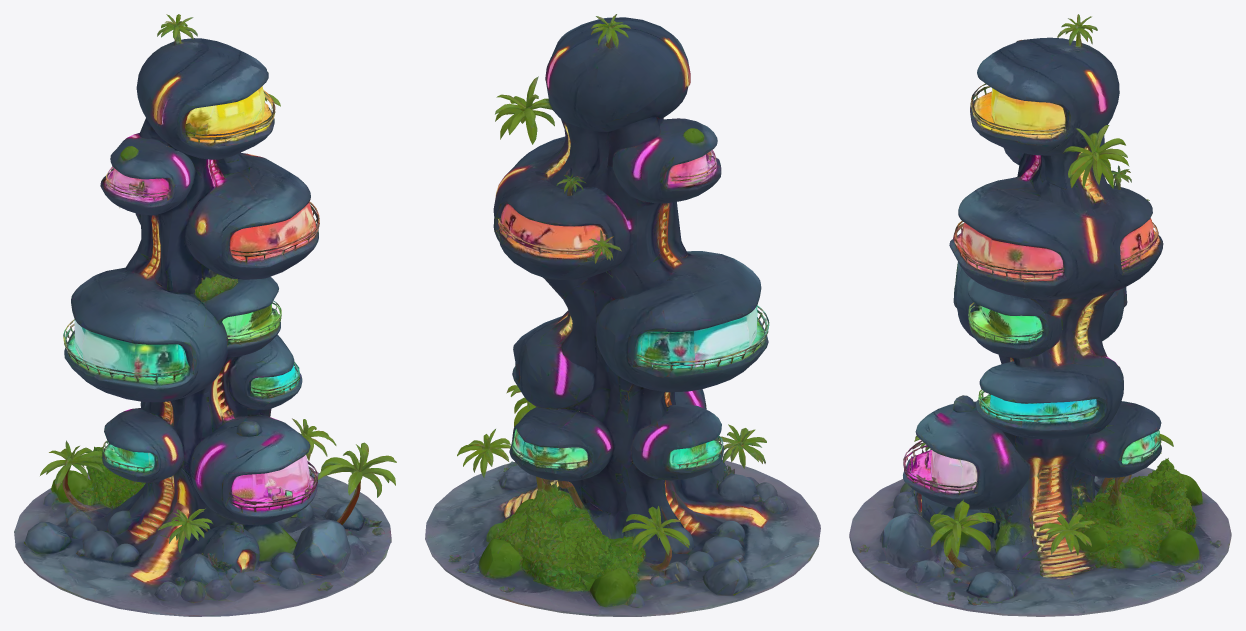
File: bld-apartment-pod-block.glb
3 renders of one model, left to right at view 1: azimuth 30°, elevation 25°; view 2: azimuth 150°, elevation 25°; view 3: azimuth 270°, elevation 25°, orthographic. The views are drawn at different scales.
Visible parts, largest first — view 1: Mesh_0; view 2: Mesh_0; view 3: Mesh_0.
Part boxes in pixels (x1=…): Mesh_0: x1=14, y1=14, x2=396, y2=616; Mesh_0: x1=425, y1=14, x2=820, y2=616; Mesh_0: x1=849, y1=14, x2=1231, y2=616.
Bounding box in the file's own units: 1.28 × 1.9 × 1.28.
1 material, 1 textured.
